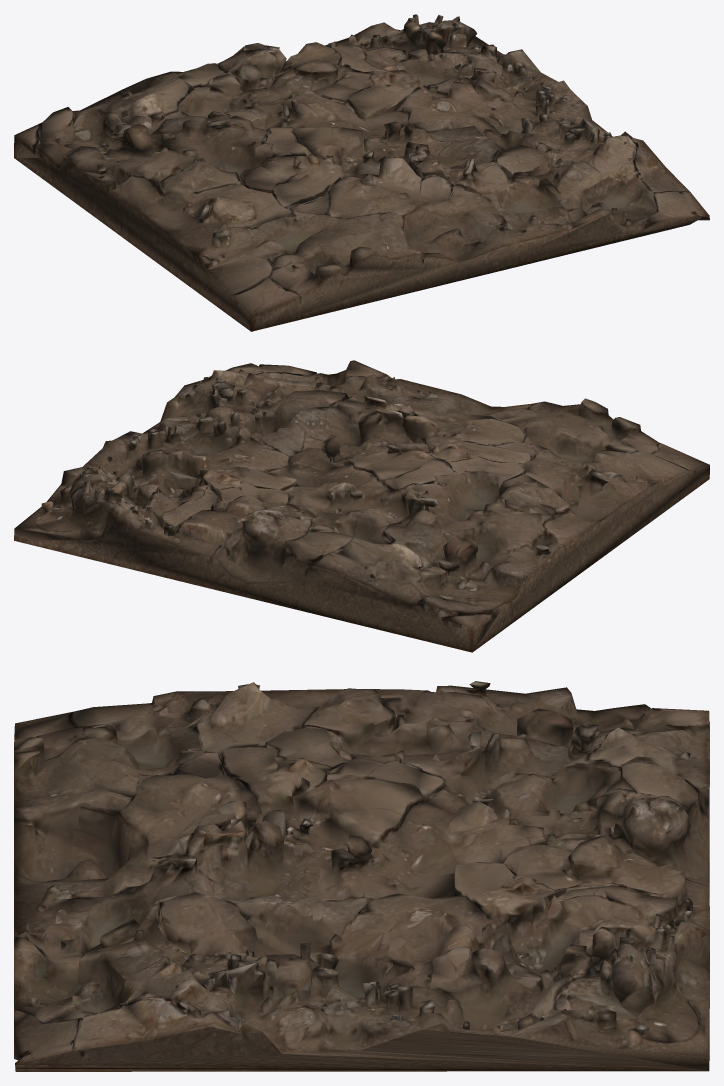
File: cracked-soil.glb
3 renders of one model, top to bottom at view 1: azimuth 30°, elevation 25°; view 2: azimuth 150°, elevation 25°; view 3: azimuth 270°, elevation 25°, orthographic. The views are drawn at different scales.
Parts seen in each view (by area): view 1: Landscape asset / cracked-soil; view 2: Landscape asset / cracked-soil; view 3: Landscape asset / cracked-soil.
Boxes of the visible parts, x1,y1,x2,y2 form: Landscape asset / cracked-soil: [14, 14, 709, 331]; Landscape asset / cracked-soil: [14, 360, 709, 652]; Landscape asset / cracked-soil: [14, 681, 709, 1071].
Bounding box in the file's own units: 1 × 0.1461 × 0.8983.
1 material, 1 textured.
